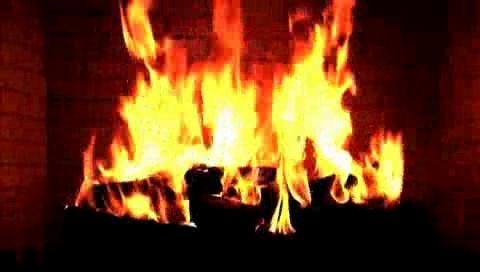fire: (103, 20, 408, 217)
